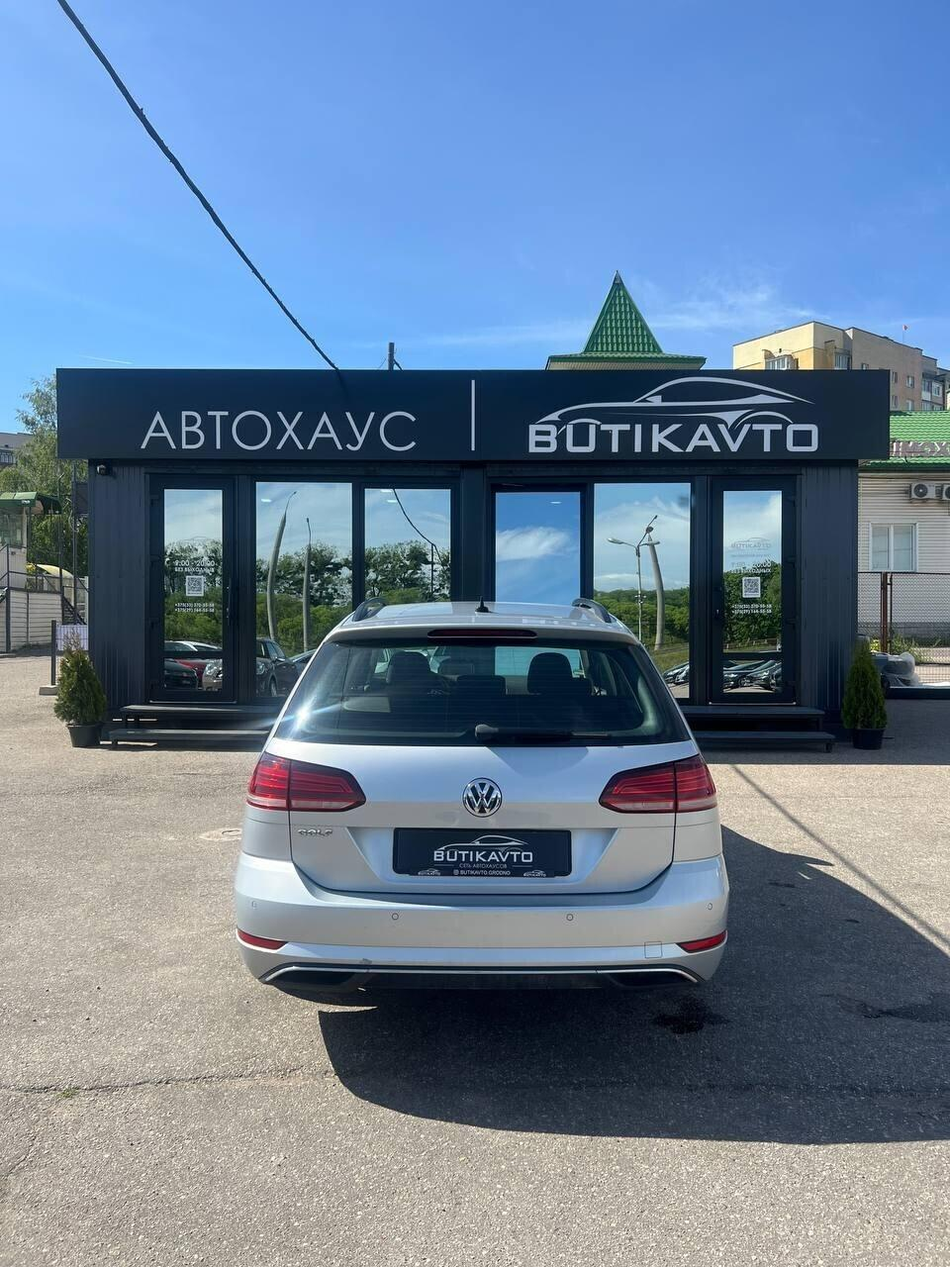Golf_2017-2021: (231, 602, 734, 1026)
